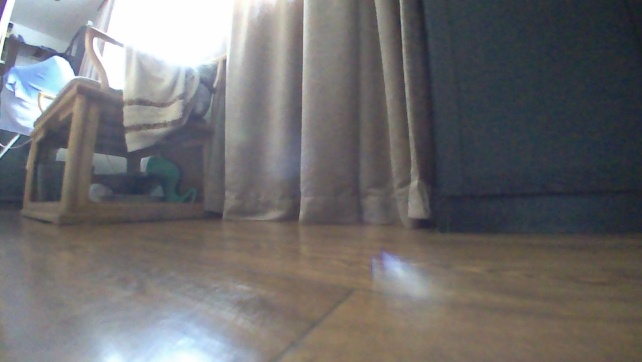wire: (0, 137, 33, 150)
